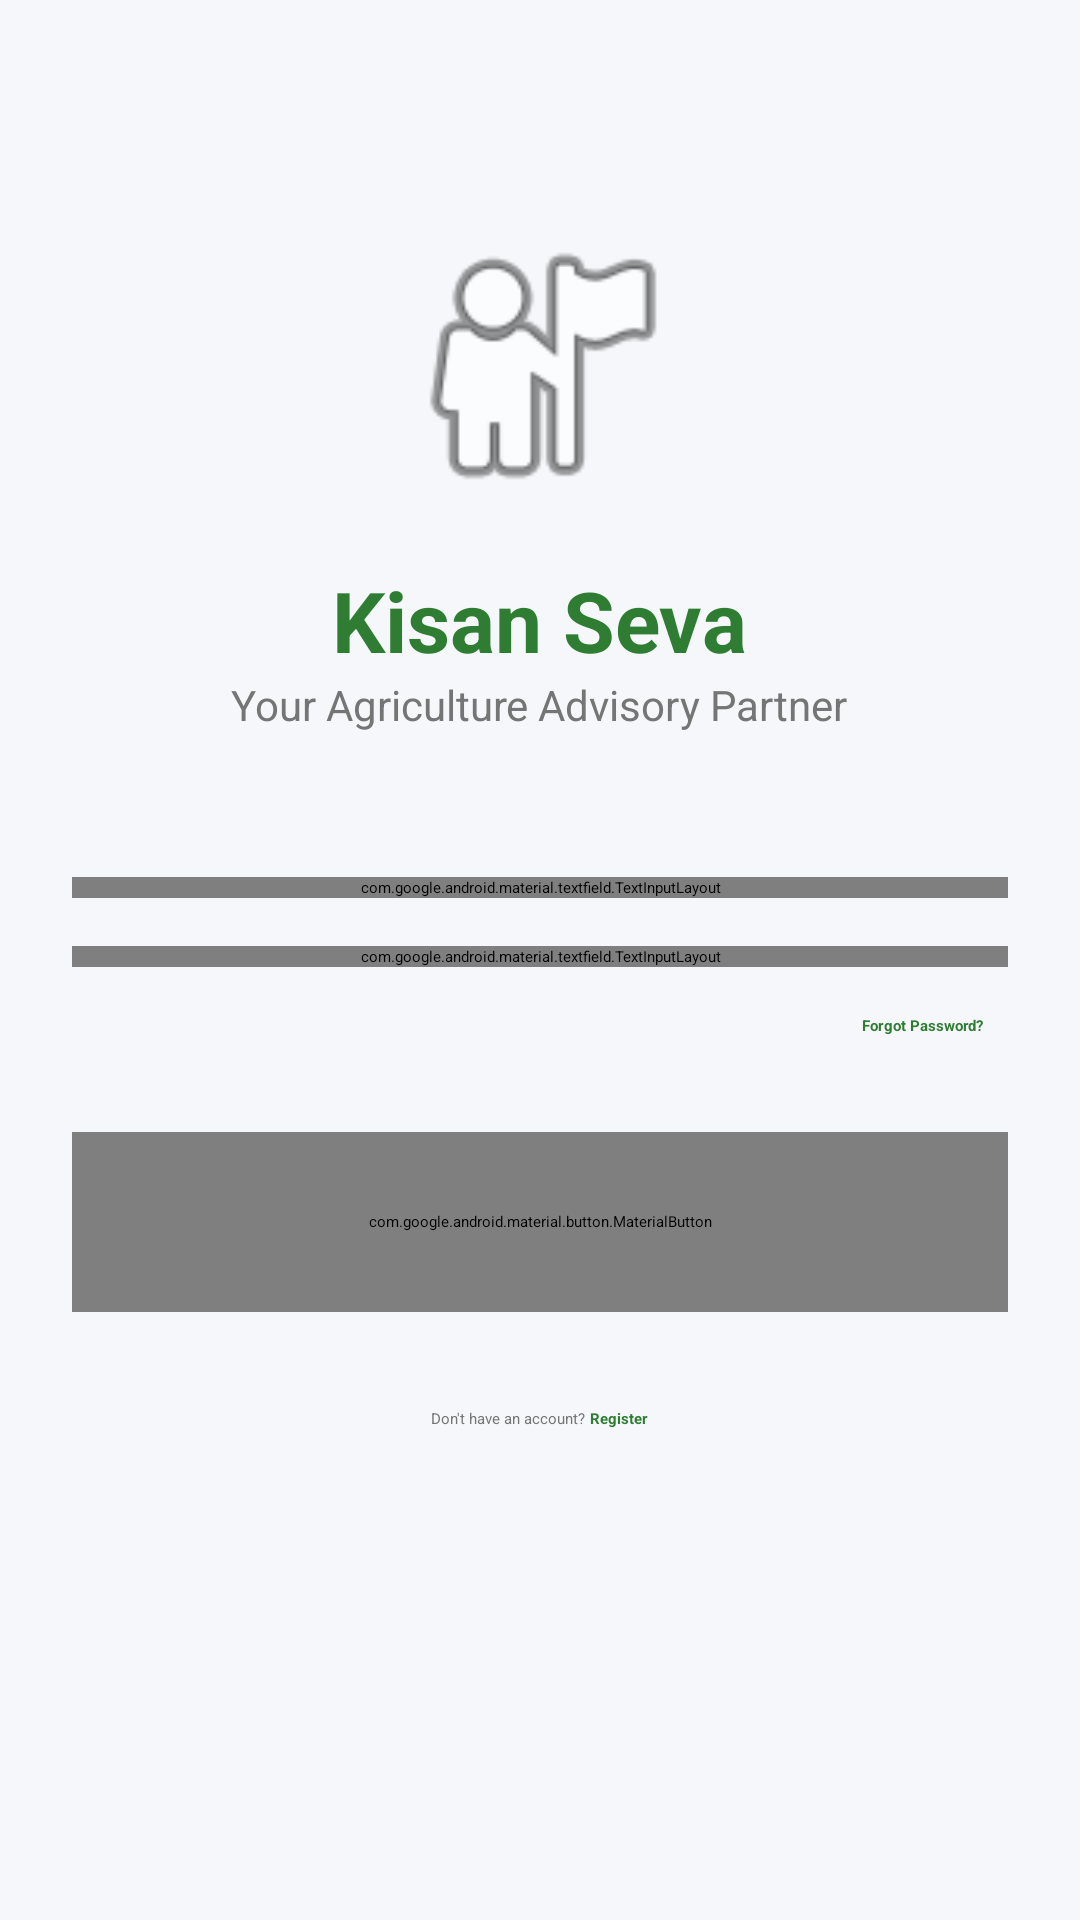

Locate icon controls on the screen. Image size 1080×1920, boxes as box(x1, y1, x2, y2).
myplaces: box(430, 254, 656, 478)
